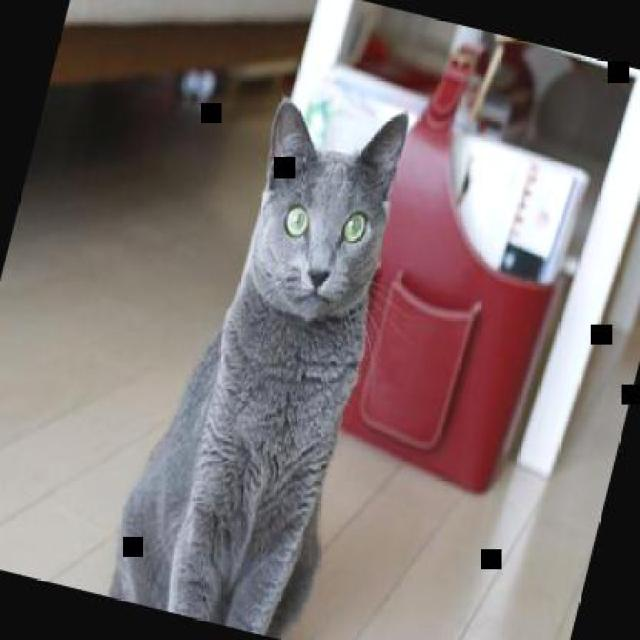cat: (101, 67, 434, 638)
